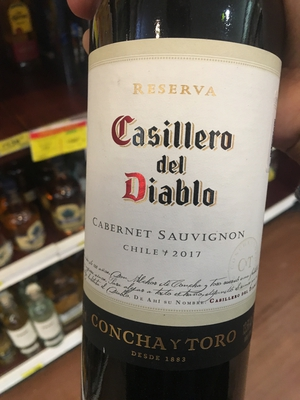casillero del diablo cabernet sauvignon: (76, 1, 282, 399)
